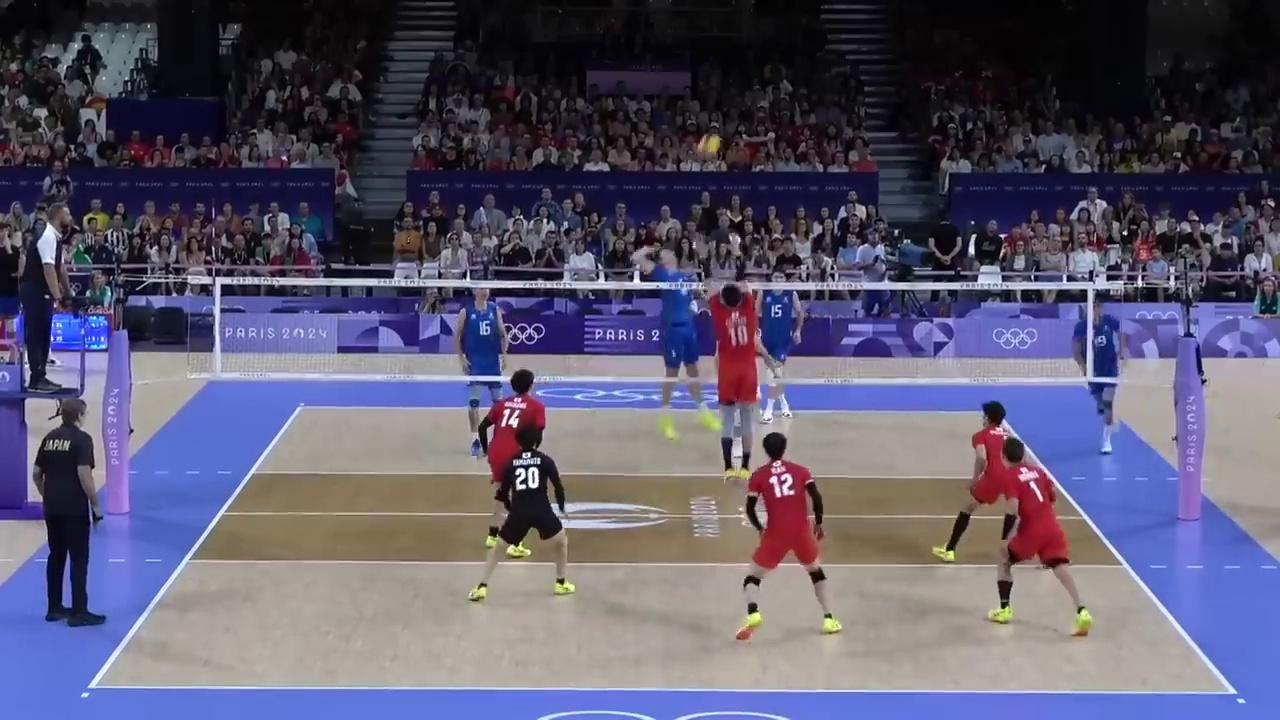ball: (699, 134, 720, 155)
